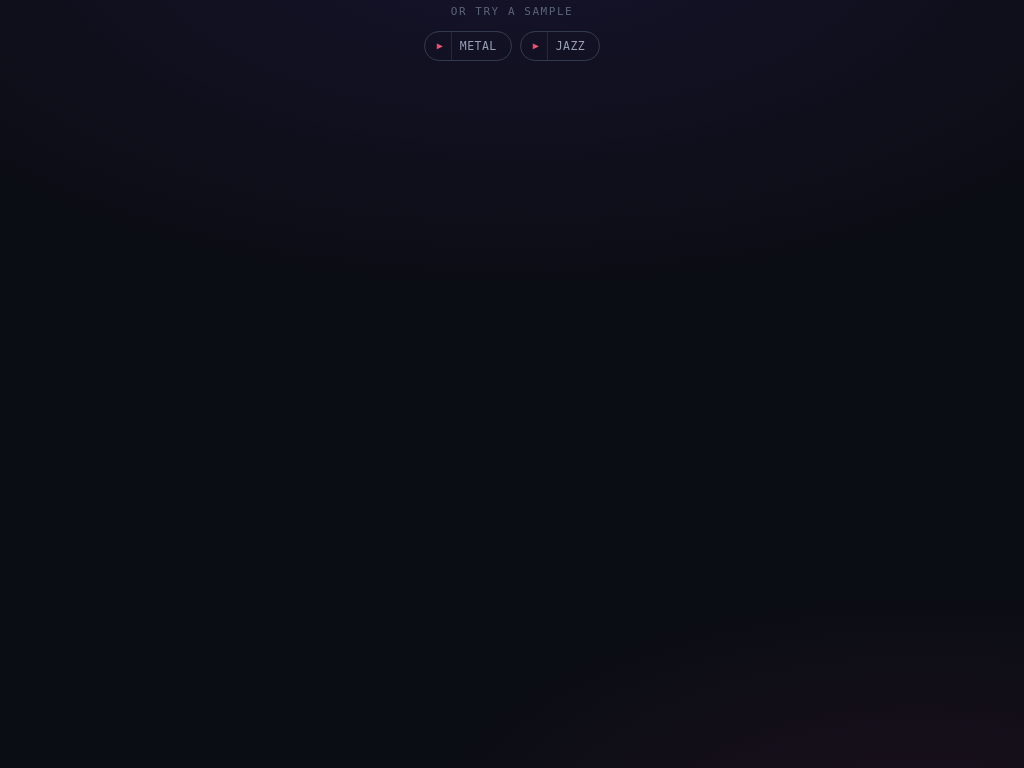
Test: play button starts the clip and flips to pause
Click the button named "play the metal sample".
click(438, 46)  # box [425,32,451,60]
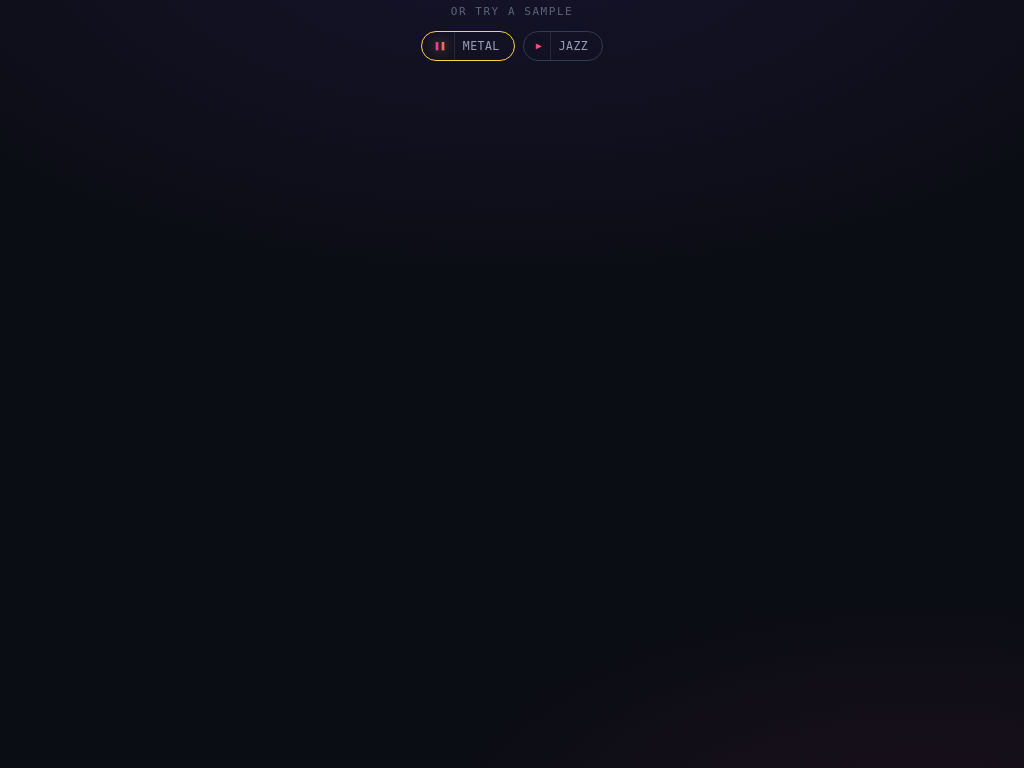
Check: the button named "pause the metal sample" is pressed
Click the button named "pause the metal sample".
click(438, 46)  # box [422,32,454,60]
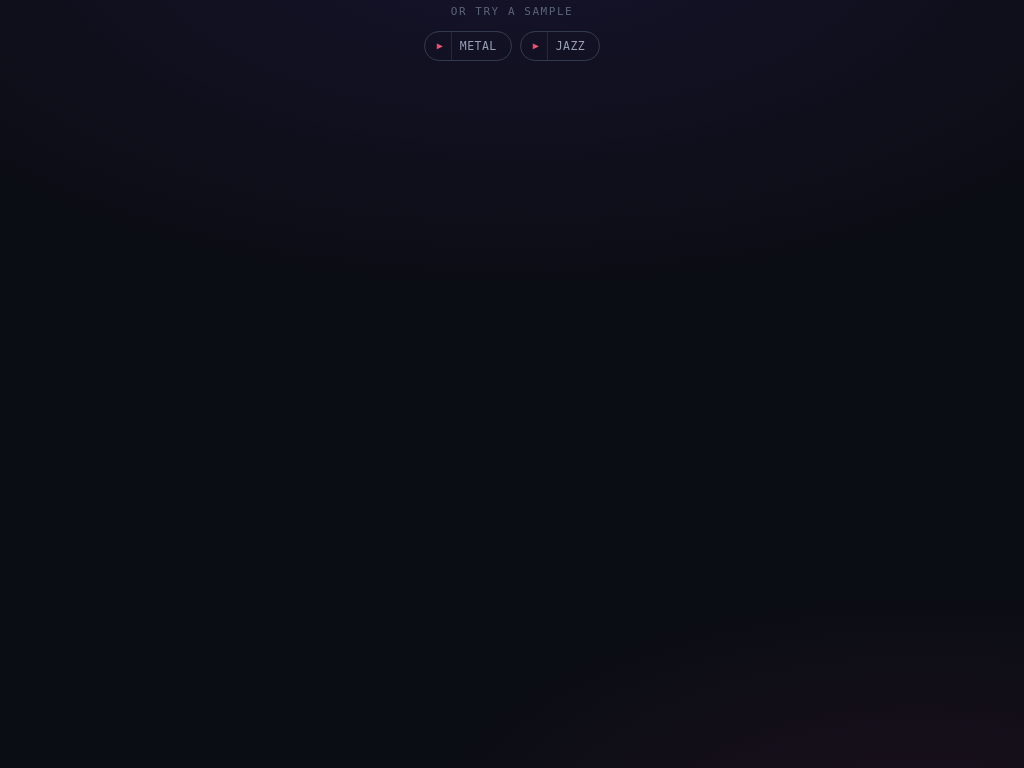
Check: the button named "play the metal sample" is shown, box [425,32,451,60]
